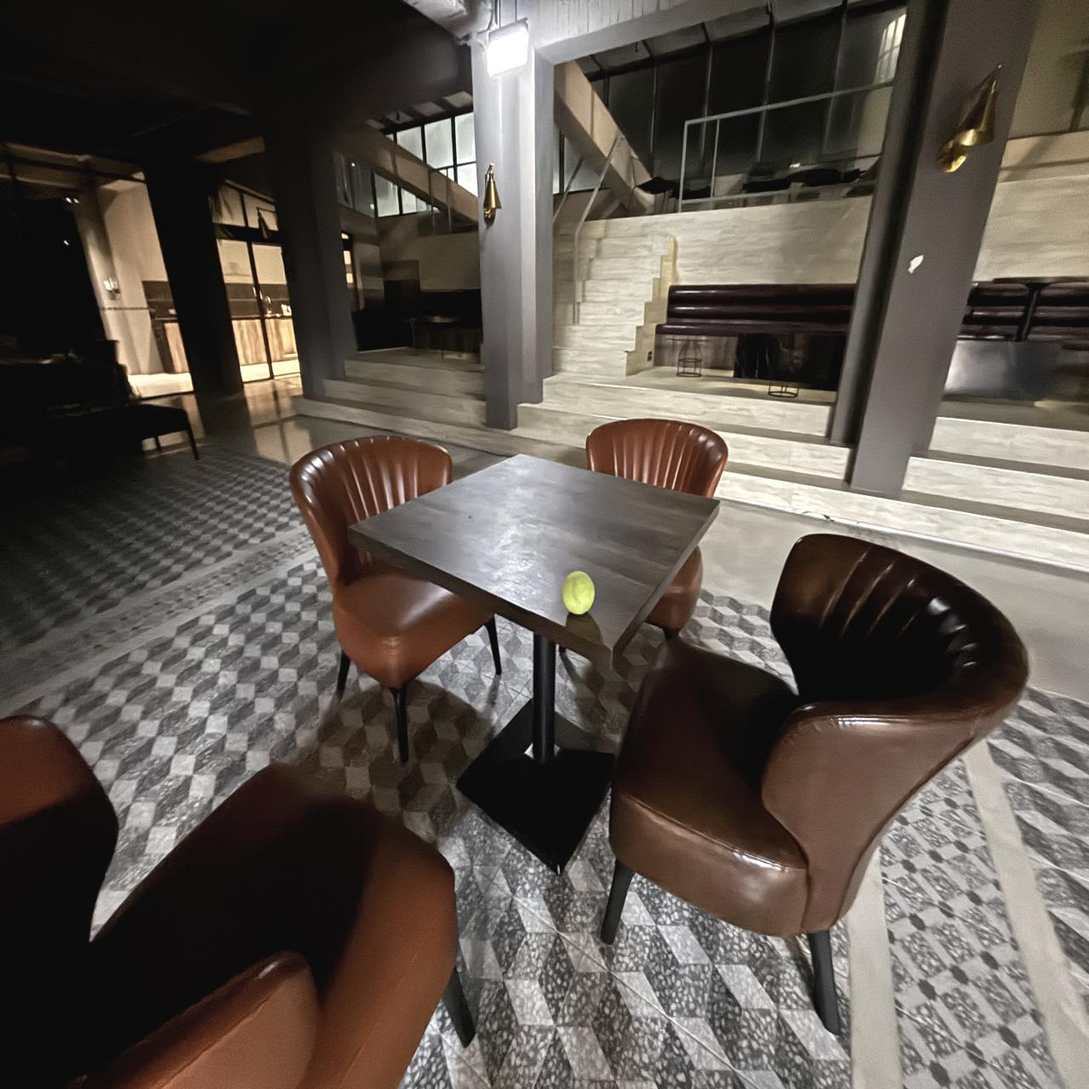tennisball: (562, 571, 595, 614)
